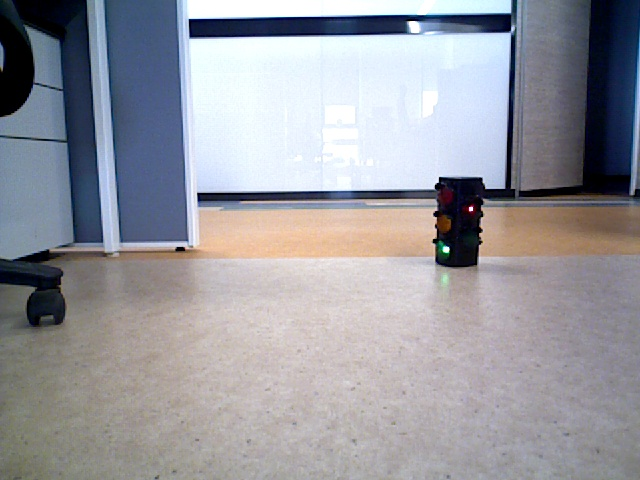green: (437, 180, 480, 264)
